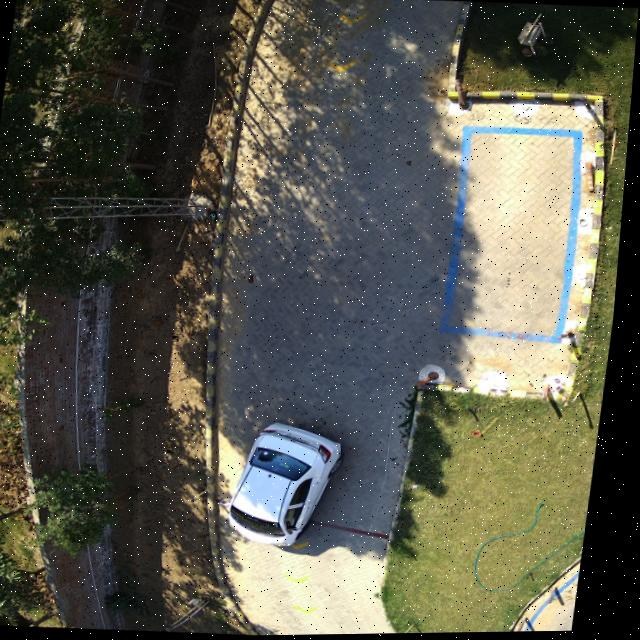car: (236, 423, 353, 549)
